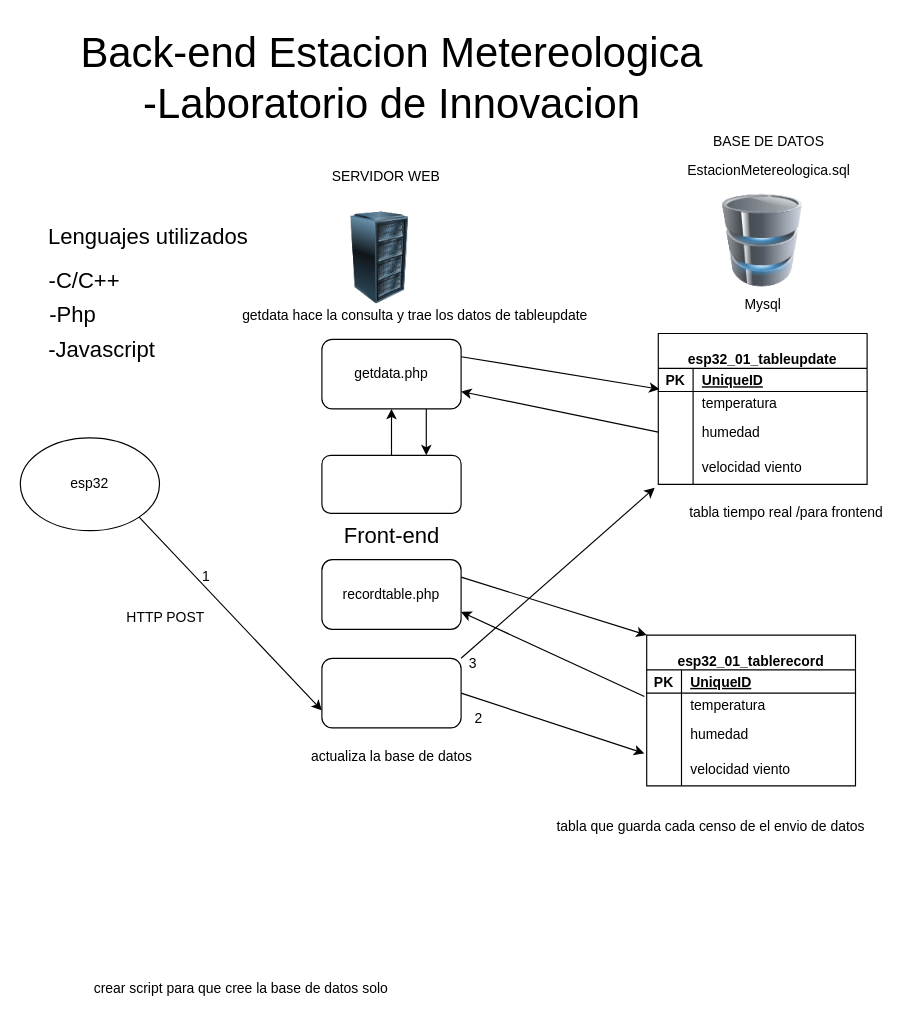
The diagram is 916 pixels wide and 1025 high, and some of its shapes have lost their labels. Here are the shapes that lost their labels. From the top down, the centre of each, then its label:
pixel 391 483: index.php
pixel 391 692: tableUpdate.php
